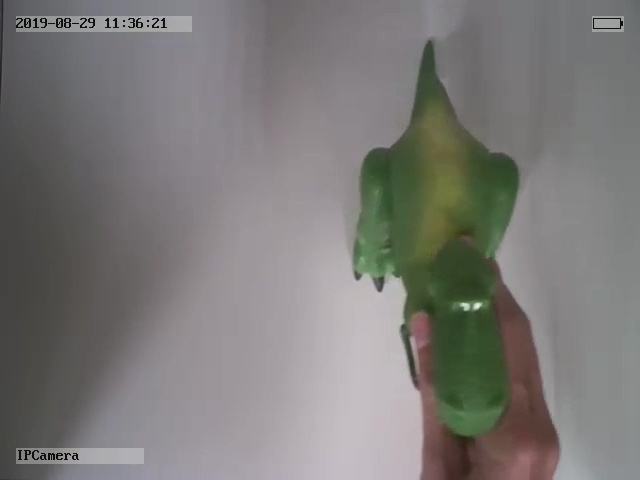rex: (350, 37, 521, 438)
